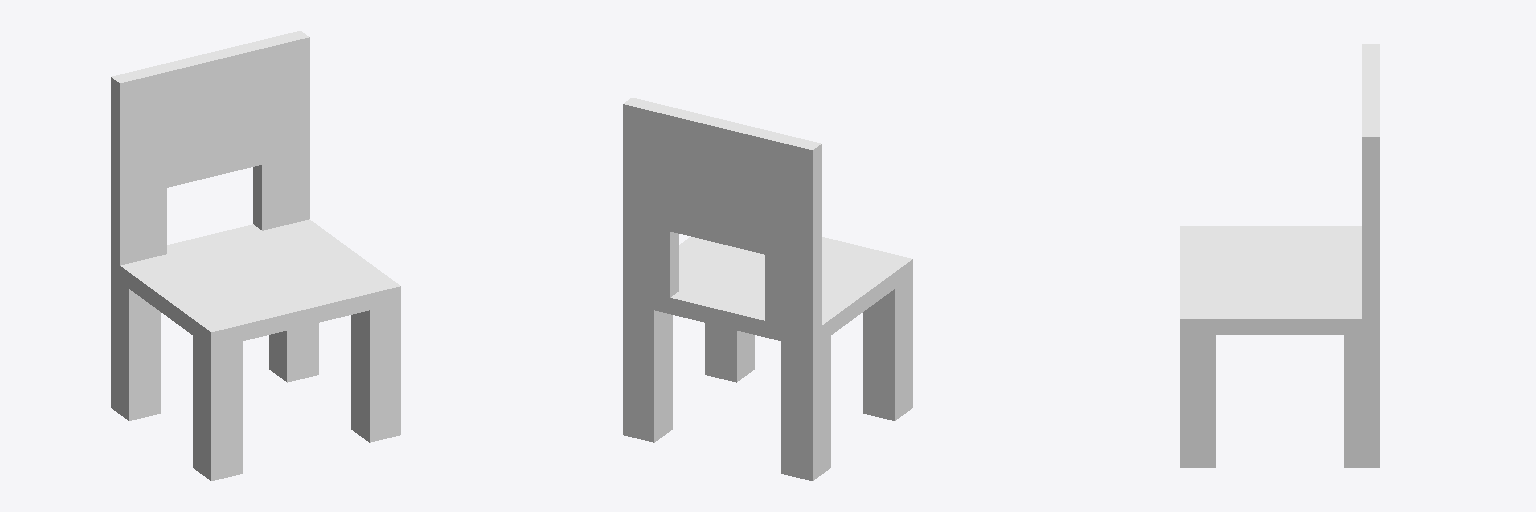
The model's file is tuoli.obj.
3 views of the same model, side by side, from view 1: azimuth 30°, elevation 25°; view 2: azimuth 150°, elevation 25°; view 3: azimuth 270°, elevation 25° (orthographic).
Bounding box in the file's own units: 12 × 20 × 11.